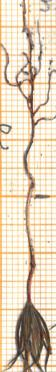flower: (0, 301, 56, 372)
root: (0, 1, 56, 198)
stem: (21, 196, 39, 301)
